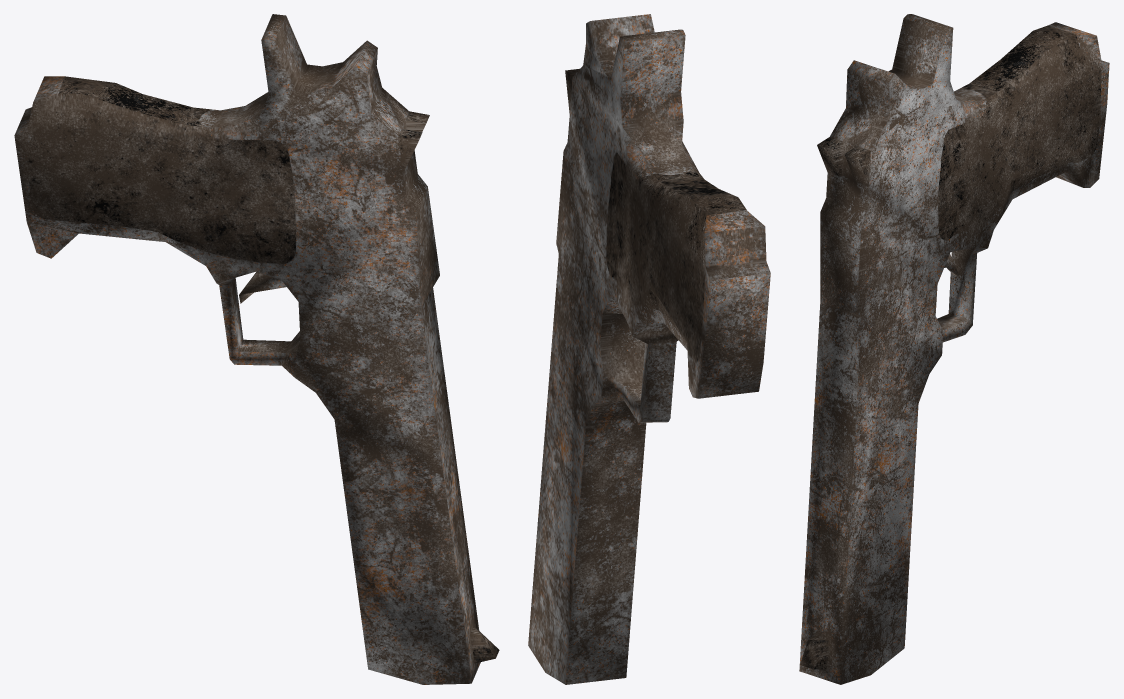
File: Anim_idle_pistola_objetos.0021.obj
3 renders of one model, left to right at view 1: azimuth 30°, elevation 25°; view 2: azimuth 150°, elevation 25°; view 3: azimuth 270°, elevation 25°, orthographic. The views are drawn at different scales.
Visible parts, largest first — view 1: Pistola1; view 2: Pistola1; view 3: Pistola1.
Part boxes in pixels (box(x1,y1,x2,y2)): Pistola1: box(14, 14, 499, 684); Pistola1: box(528, 14, 770, 684); Pistola1: box(799, 14, 1109, 684).
Bounding box in the file's own units: 0.9486 × 1.68 × 0.7897.
